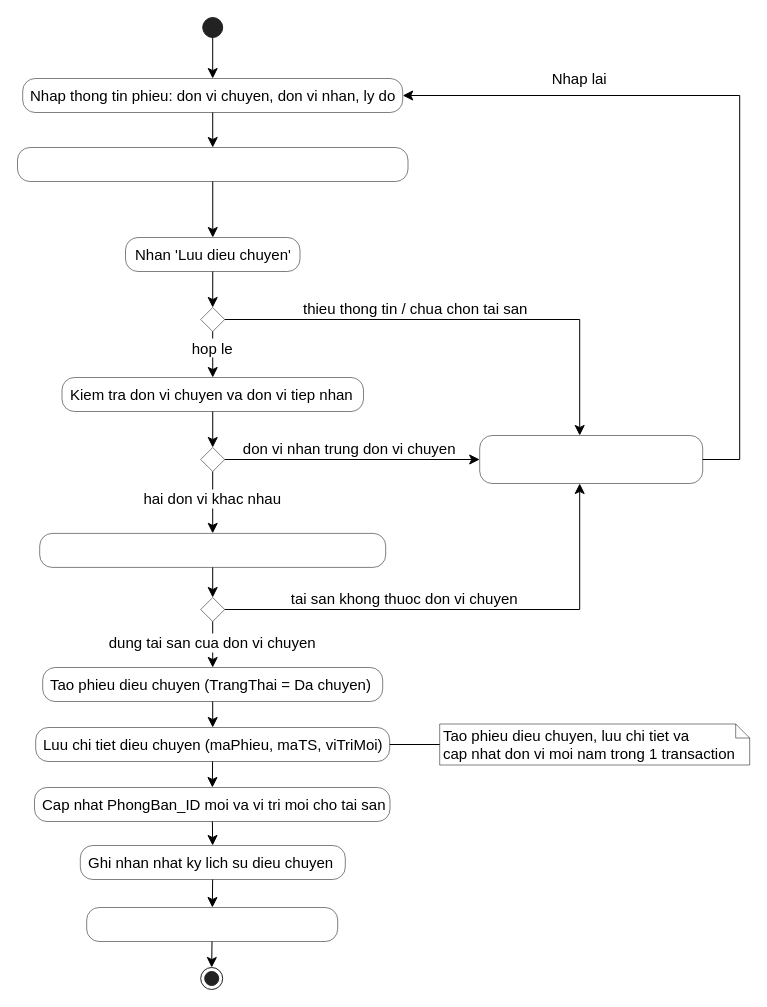
Some shapes in this 767 by 1007 pixel diagram are drawn without their labels. Each missing label, with the centre of its shape:
"Chon danh sach tai san dieu chuyen va vi tri lap dat moi" goes at pixel 212 164.
"Huy giao dich (rollback), thong bao nguyen nhan tu choi" goes at pixel 590 459.
"Kiem tra quyen quan ly tai san cua don vi chuyen" goes at pixel 212 550.
"Thong bao dieu chuyen thanh cong" goes at pixel 212 924.
